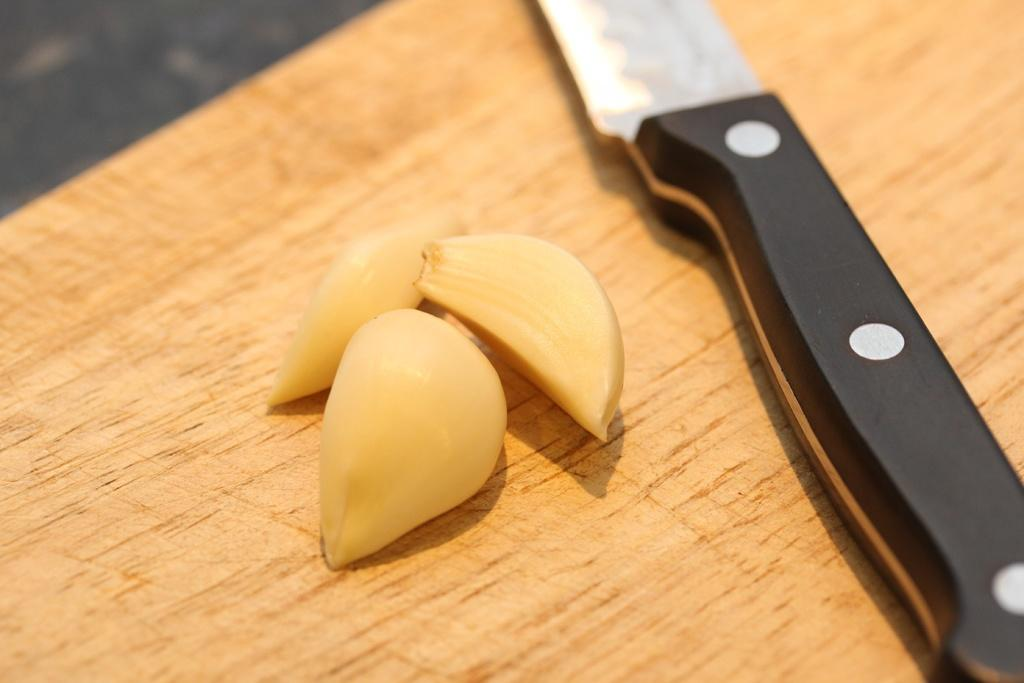Knife: (533, 0, 1023, 682)
